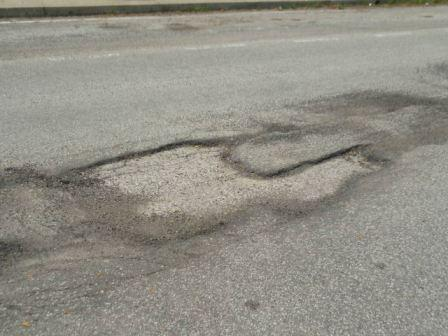Pothole: (66, 106, 434, 276)
